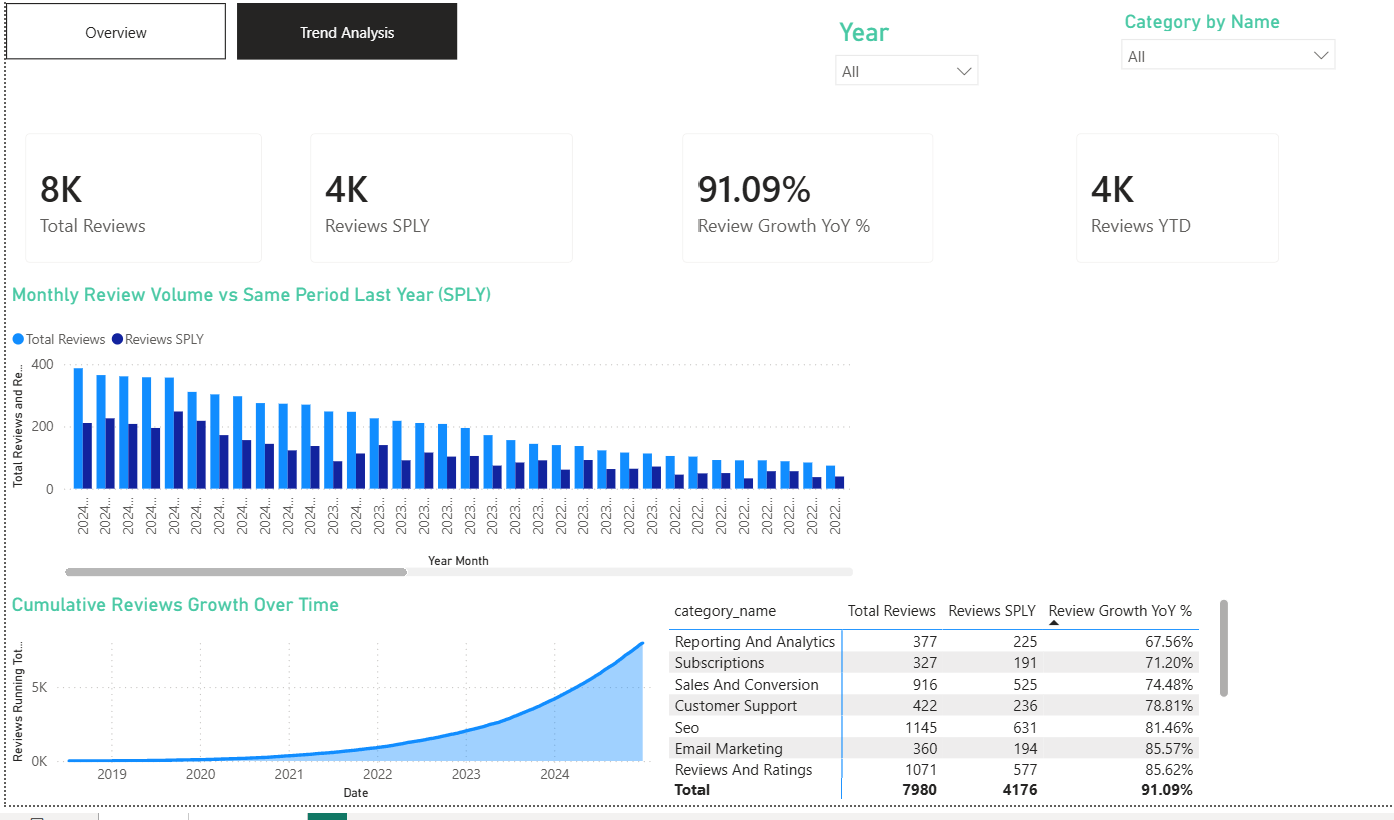

The dashboard page shown, as its layout file describes it:
{"tool":"powerbi","page":{"name":"Trend Analysis","canvas":[1280,720],"ordinal":1},"visuals":[{"type":"pageNavigator","box":[0,8.6,400,50],"z":0},{"type":"slicer","fields":{"Values":["dim_date.Year"]},"box":[724.8,17.2,147,82.8],"z":1},{"type":"slicer","fields":{"Values":["apps.category_name"]},"box":[977.8,9.8,210,97.6],"z":2},{"type":"cardVisual","fields":{"Data":["_Measures.Total Reviews"]},"box":[0,106.9,244.5,149.9],"z":3},{"type":"cardVisual","fields":{"Data":["_Measures.Reviews SPLY"]},"box":[253.1,106.9,267.8,149.9],"z":4},{"type":"cardVisual","fields":{"Data":["_Measures.Review Growth YoY %"]},"box":[582.3,106.9,256.7,149.9],"z":5},{"type":"cardVisual","fields":{"Data":["_Measures.Reviews YTD"]},"box":[931.1,106.9,215,149.9],"z":6},{"type":"lineClusteredColumnComboChart","title":"Monthly Review Volume vs Same Period Last Year (SPLY)","fields":{"Category":["dim_date.Year Month"],"Y":["_Measures.Total Reviews","_Measures.Reviews SPLY"]},"box":[0,256.7,755.5,265.3],"z":7},{"type":"areaChart","title":"Cumulative Reviews Growth Over Time","fields":{"Category":["dim_date.Date"],"Y":["_Measures.Reviews Running Total"]},"box":[0,532,582.6,188],"z":8},{"type":"pivotTable","fields":{"Rows":["apps.category_name"],"Values":["_Measures.Total Reviews","_Measures.Reviews SPLY","_Measures.Review Growth YoY %"]},"box":[582.6,532,506.3,188],"z":9}]}

Visuals, with their boxes on the page's 1280x720 design canvas (x1, y1, x2, y2). These are canvas units, not pixel positions in the 1394x820 screenshot, which may show the page scaled, cropped or inside an application window:
pageNavigator: 0,9,400,59
slicer - dim_date.Year: 725,17,872,100
slicer - apps.category_name: 978,10,1188,107
cardVisual - _Measures.Total Reviews: 0,107,244,257
cardVisual - _Measures.Reviews SPLY: 253,107,521,257
cardVisual - _Measures.Review Growth YoY %: 582,107,839,257
cardVisual - _Measures.Reviews YTD: 931,107,1146,257
"Monthly Review Volume vs Same Period Last Year (SPLY)" lineClusteredColumnComboChart: 0,257,756,522
"Cumulative Reviews Growth Over Time" areaChart: 0,532,583,720
pivotTable - apps.category_name x _Measures.Total Reviews: 583,532,1089,720
